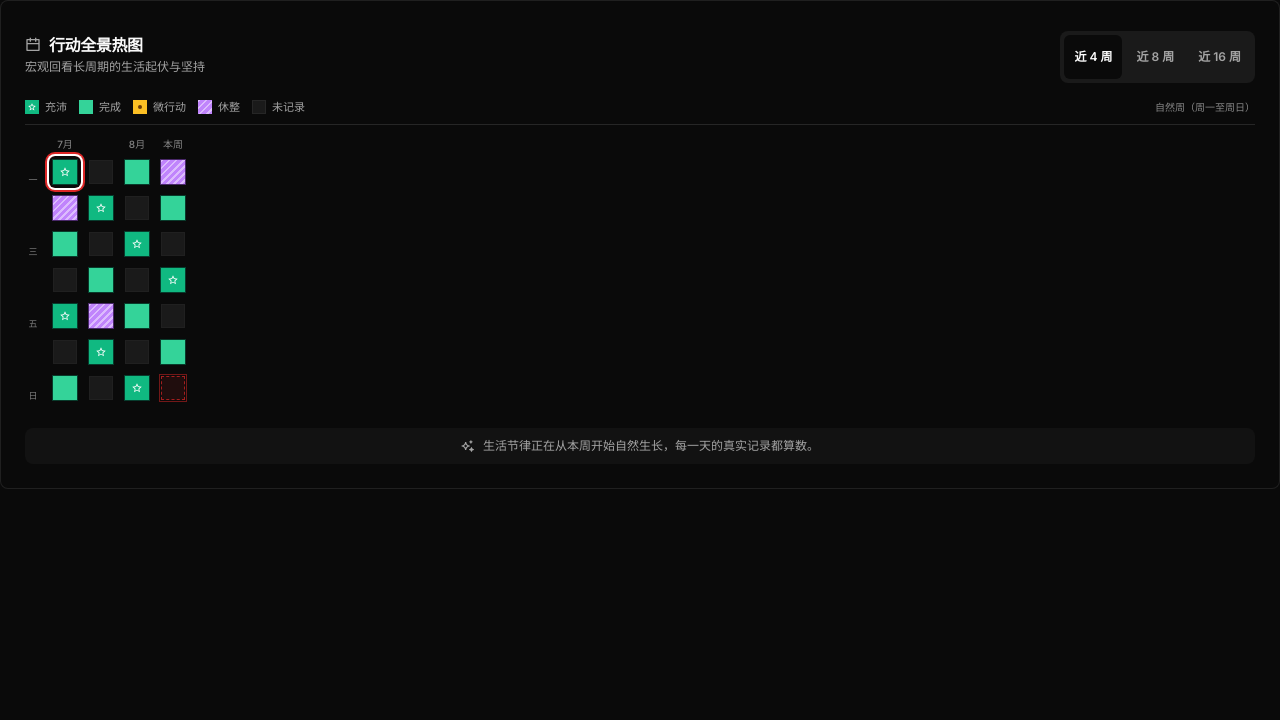
Test case: Activity History Components › renders GlobalActivityHeatmap with touch buttons, status labels, and keyboard navigation
Expected: the heading "行动全景热图" is shown, 49,33 -> 143,57
Expected: the text "充沛" is shown, 45,99 -> 67,116
Press Arrowdown
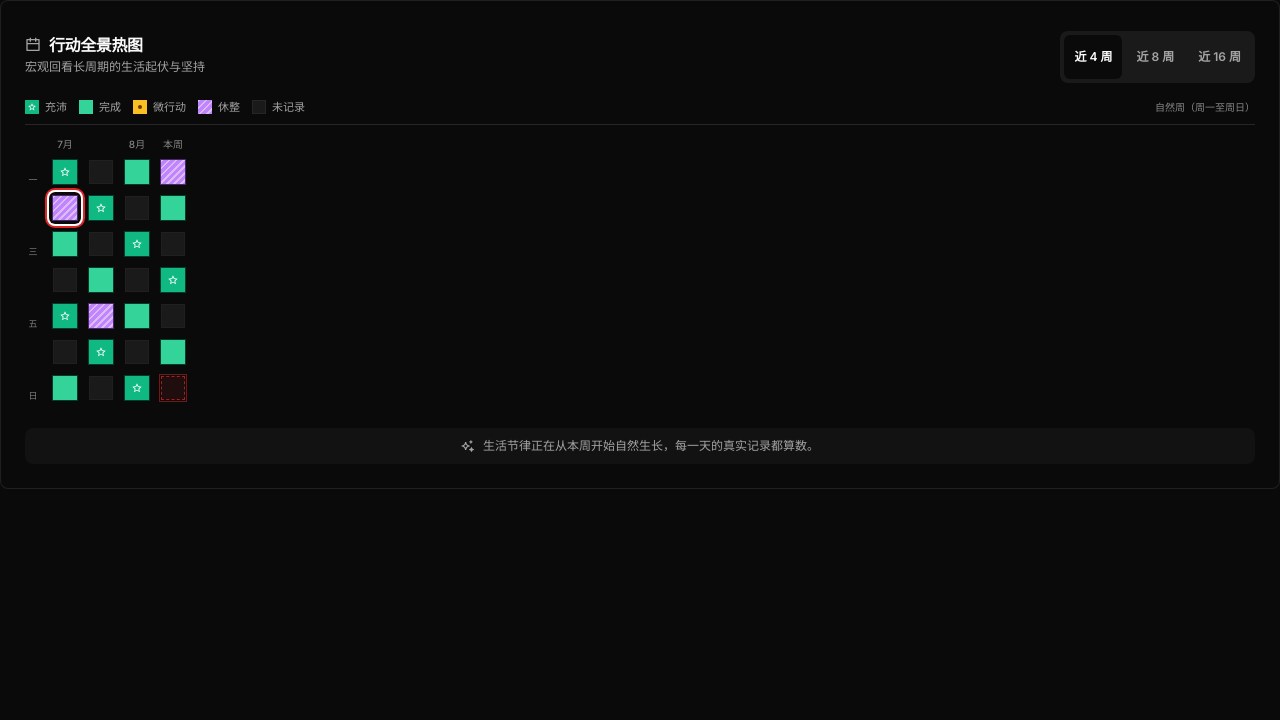
Click the button named "2026-07-24 · 充沛 · 2 次行动 · 晨跑" at (65, 172), box 49,156 -> 81,188
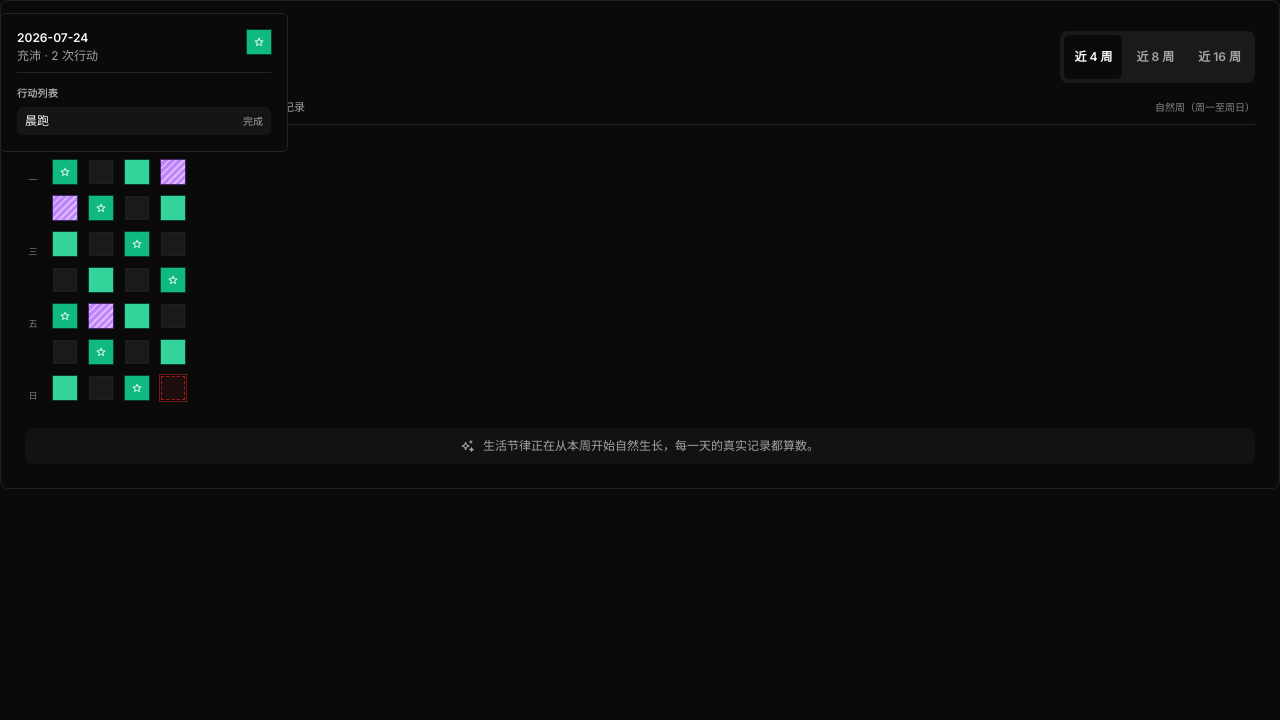
Expected: the dialog shows "晨跑", 25,113 -> 49,128
Click the element that starts with "行动全景热图" at (640, 677), box 0,0 -> 1279,719
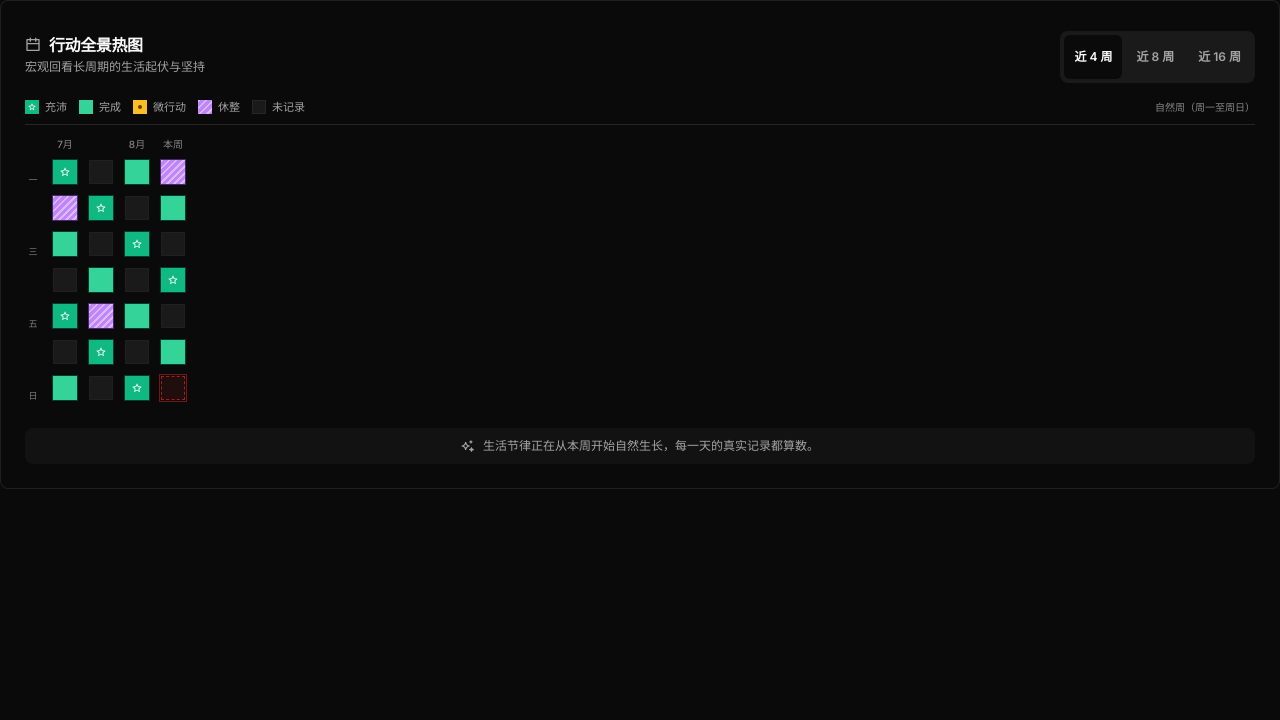
Expected: the dialog is gone
